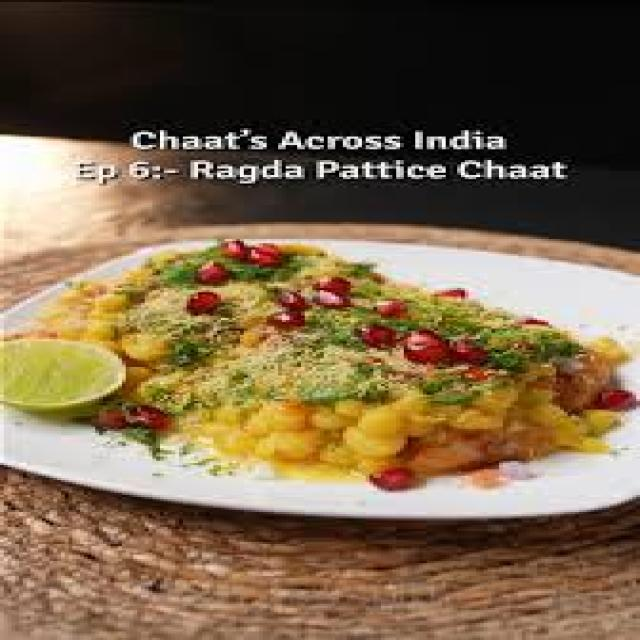POHA: (80, 241, 621, 484)
